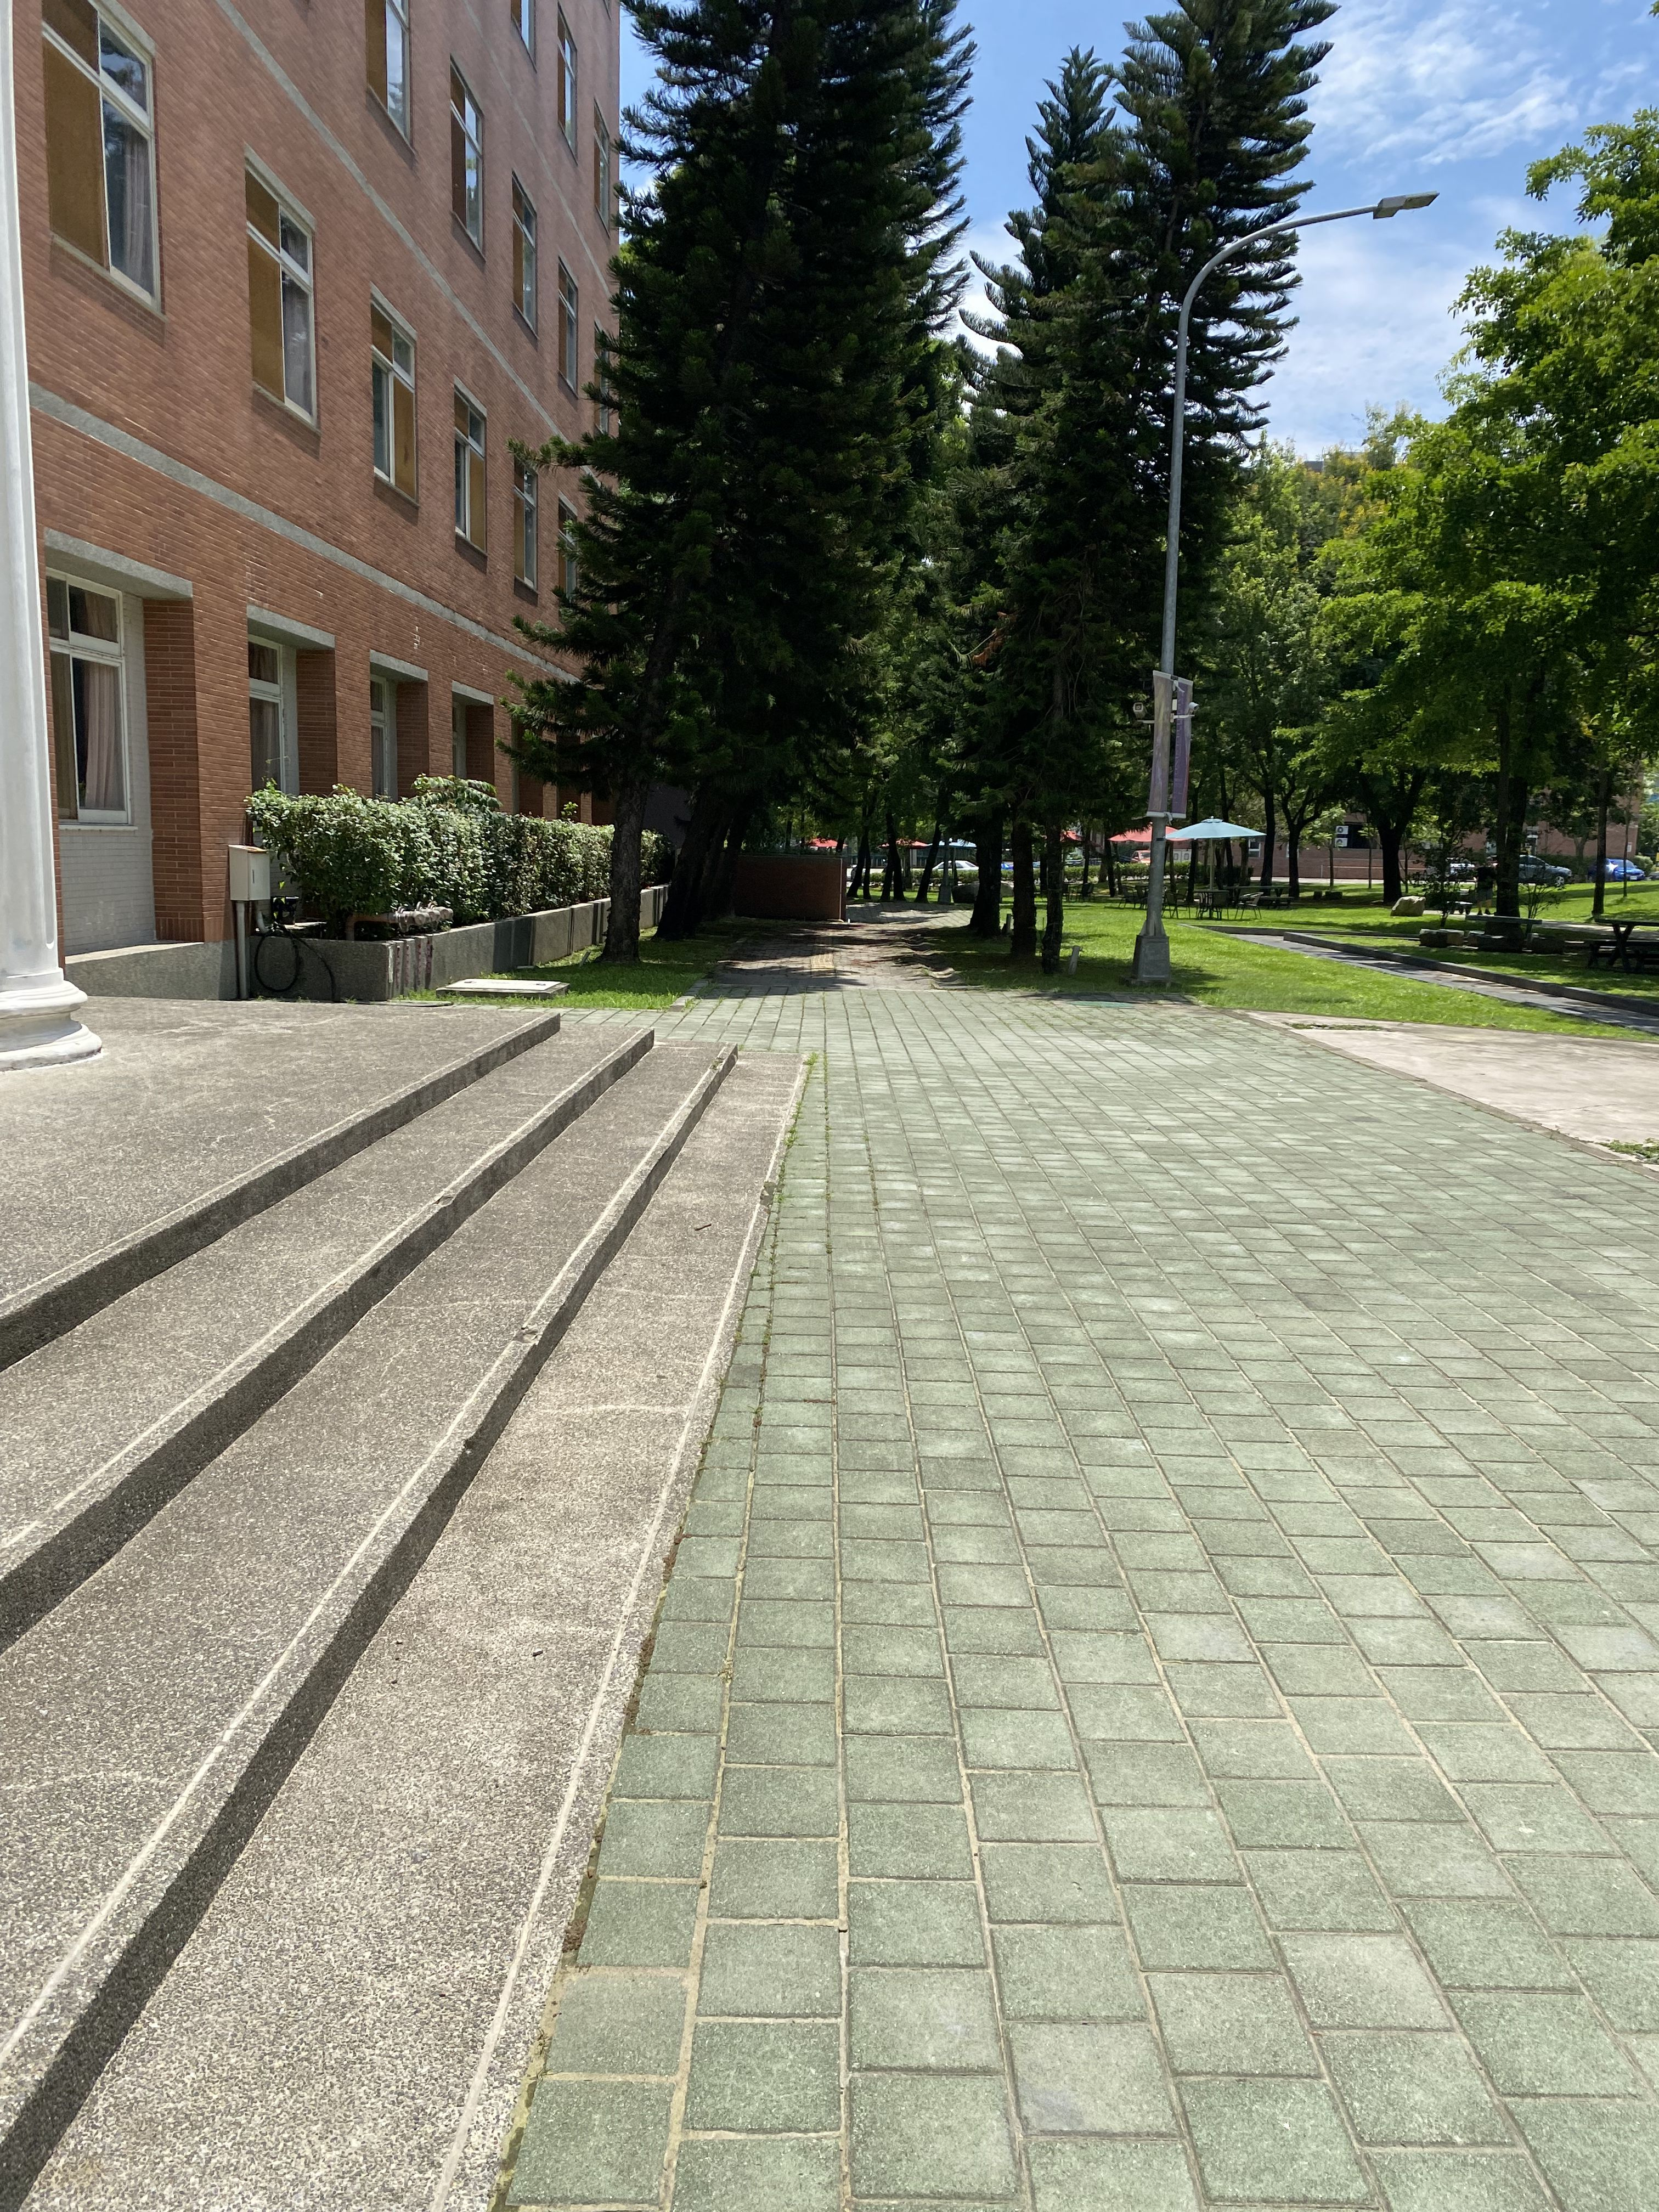sidewalk: (537, 843, 1659, 2212)
